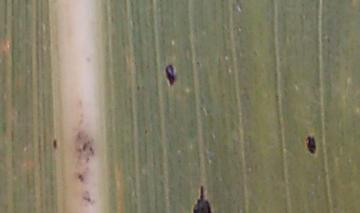tarspot: (191, 184, 212, 213), (163, 63, 178, 87), (304, 134, 317, 155), (75, 131, 85, 143), (51, 138, 60, 150), (79, 194, 91, 203), (76, 173, 86, 183), (88, 145, 95, 156), (81, 142, 88, 152), (142, 128, 149, 136), (135, 83, 140, 93), (195, 60, 200, 67)
